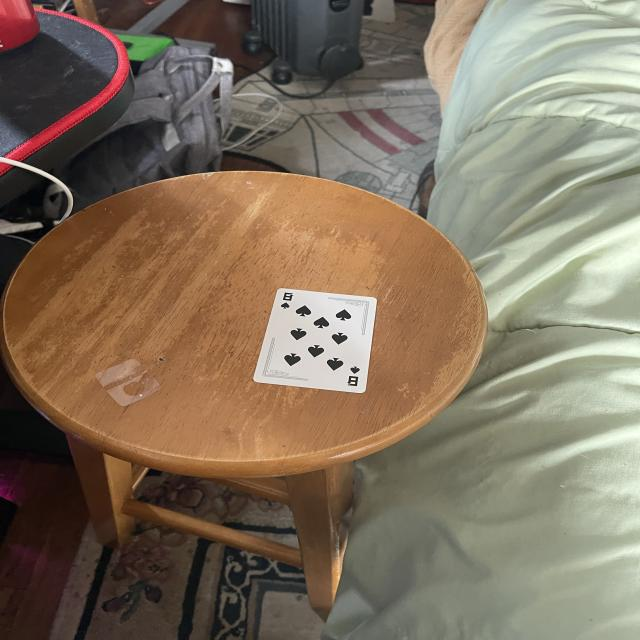8 of spades: (255, 289, 377, 393)
